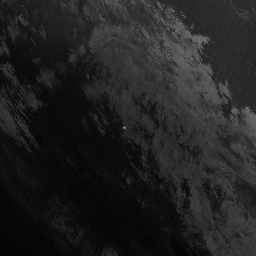Target: (122, 125, 126, 130)
